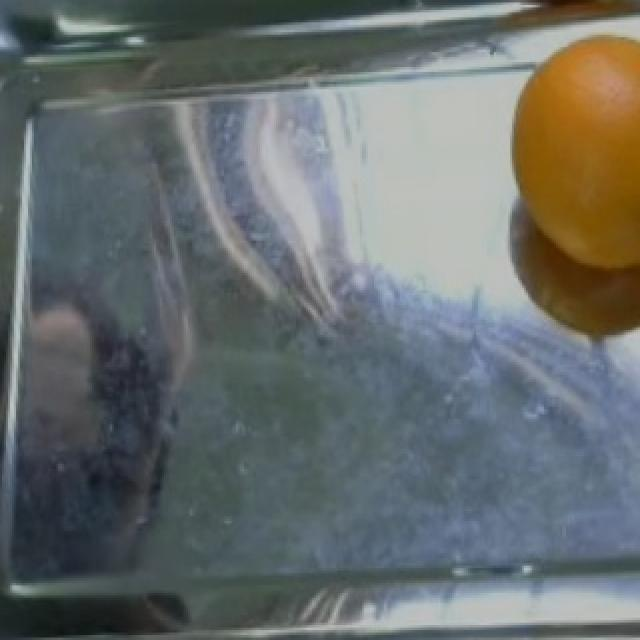Fruit: (500, 20, 640, 347)
